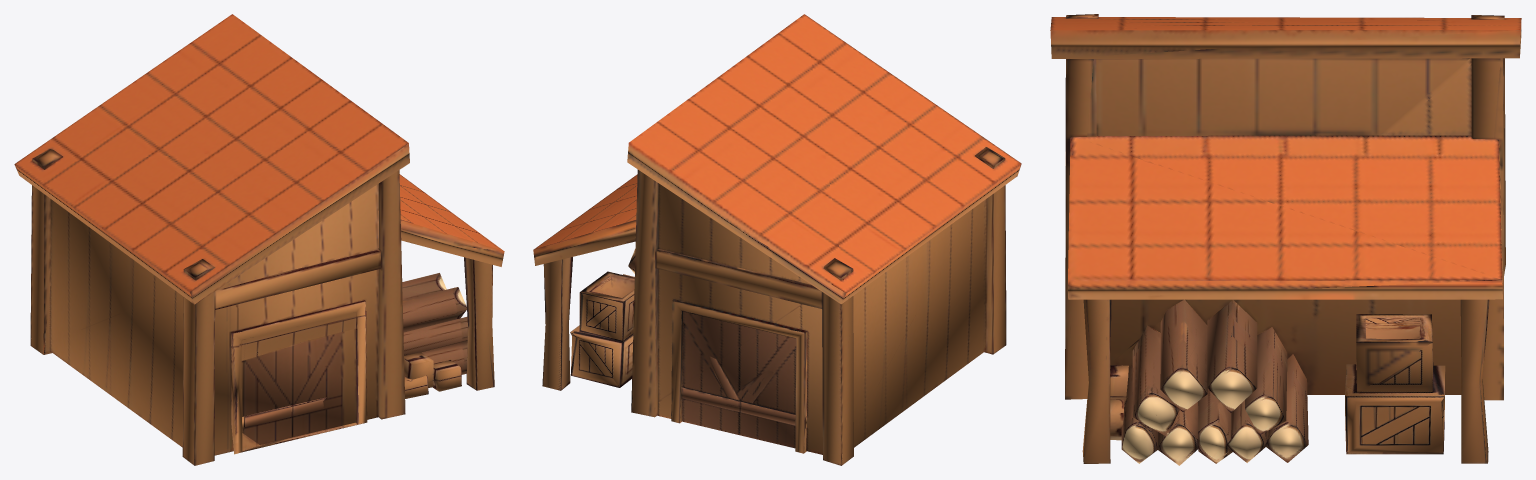
The model's file is meshy-c-550.glb.
3 renders of one model, left to right at view 1: azimuth 30°, elevation 25°; view 2: azimuth 150°, elevation 25°; view 3: azimuth 270°, elevation 25°, orthographic. The views are drawn at different scales.
Bounding box in the file's own units: 1 × 0.831 × 0.9546.
1 material, 1 textured.
